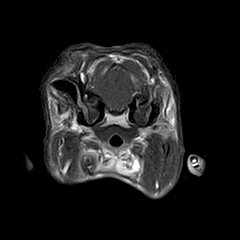Brain: (67, 34, 166, 132)
